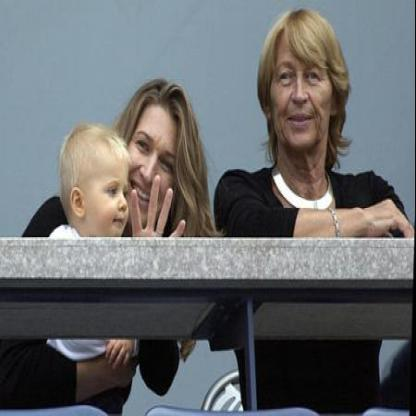face: (270, 12, 335, 152), (122, 89, 186, 229), (84, 137, 136, 245)
